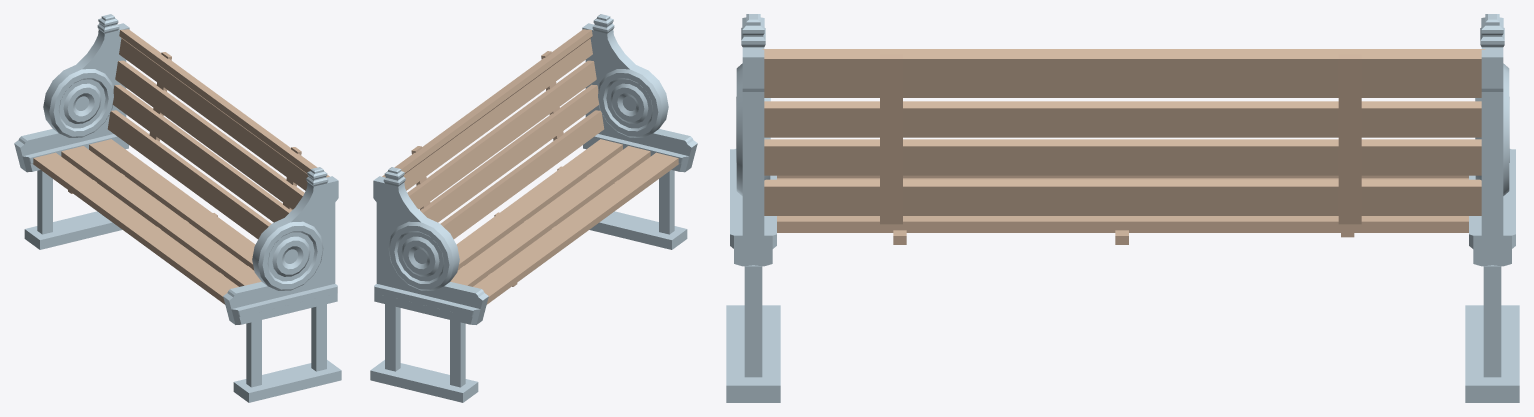
Rendered from BC_Chair_B.fbx.
3 renders of one model, left to right at view 1: azimuth 30°, elevation 25°; view 2: azimuth 150°, elevation 25°; view 3: azimuth 270°, elevation 25°, orthographic. The views are drawn at different scales.
Parts seen in each view (by area): view 1: BC_Chair_B; view 2: BC_Chair_B; view 3: BC_Chair_B.
Boxes of the visible parts, x1,y1,x2,y2 form: BC_Chair_B: (14,14,341,402); BC_Chair_B: (370,14,697,402); BC_Chair_B: (726,14,1519,402).
Bounding box in the file's own units: 123 × 221 × 428.
